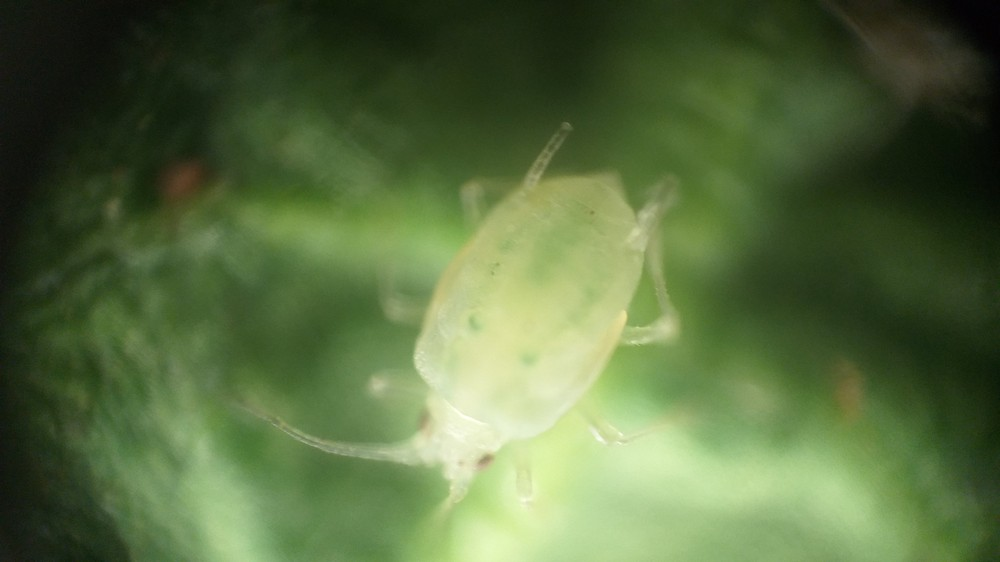Pulgon: (245, 105, 737, 557)
